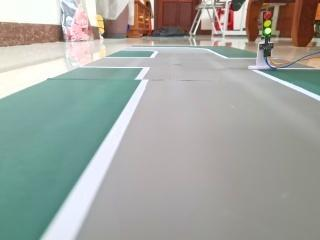green: (256, 6, 277, 46)
